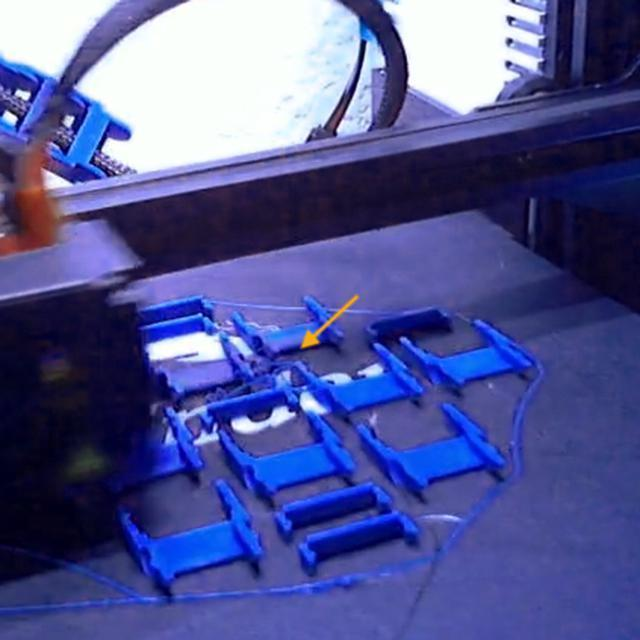spaghetti: (204, 347, 294, 407)
